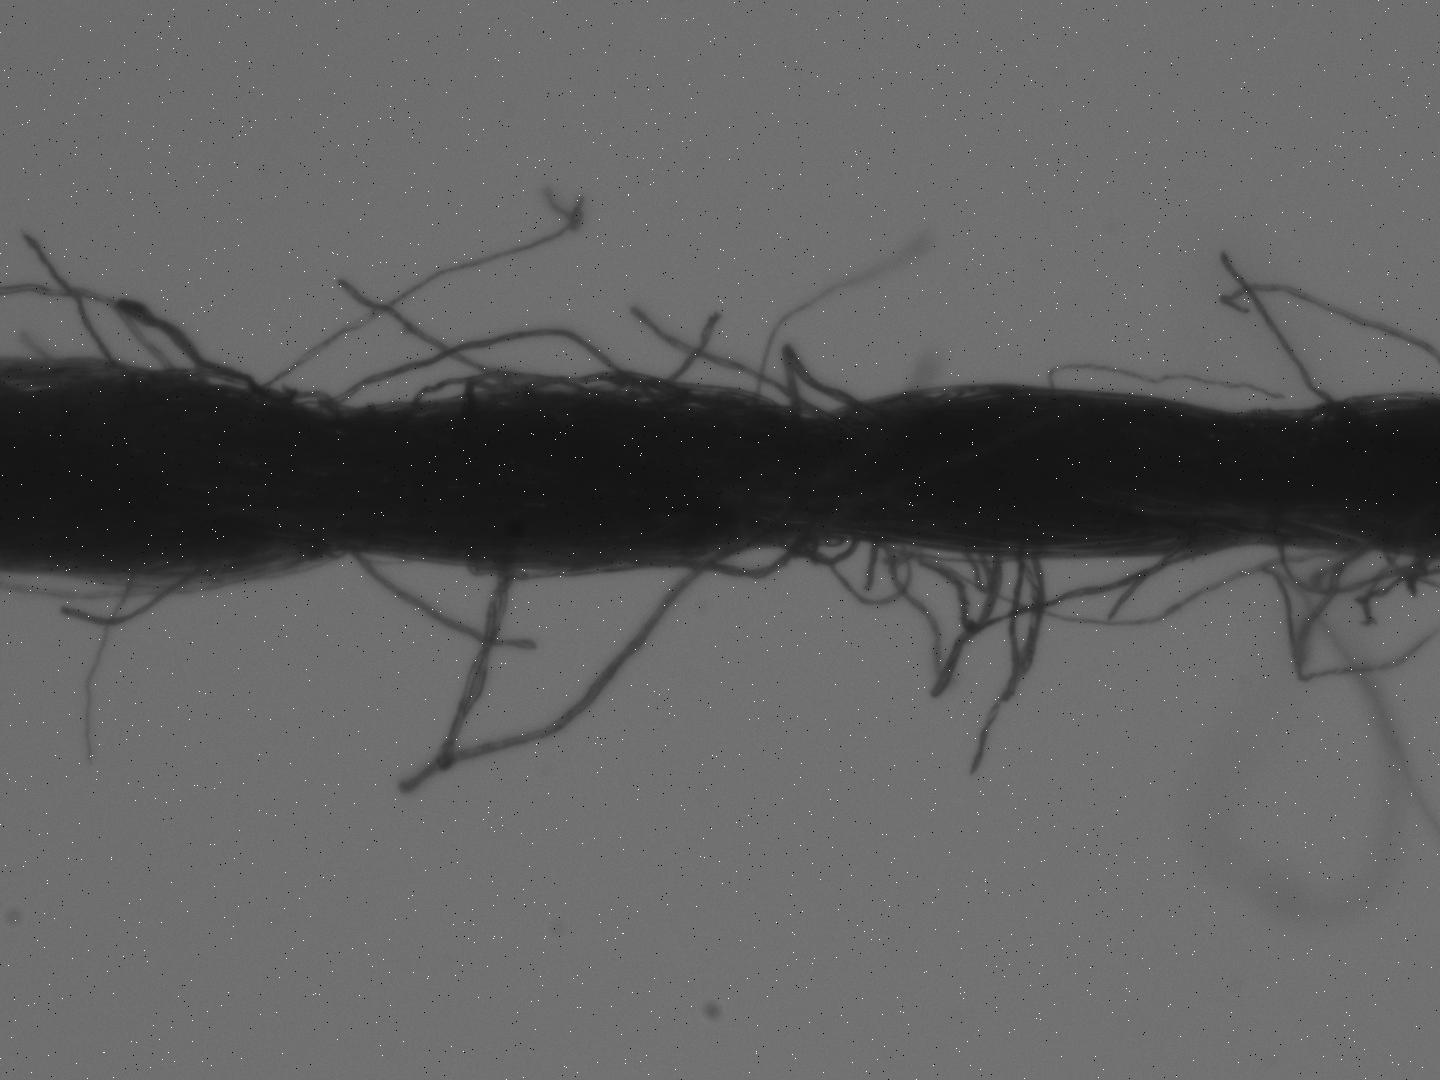loop_fiber: (324, 321, 683, 428), (897, 531, 1255, 635), (879, 520, 1005, 704), (772, 339, 904, 441), (92, 548, 358, 598), (629, 523, 824, 585), (779, 531, 917, 613), (1280, 538, 1431, 600), (147, 356, 296, 405)
protruding_fiber: (1217, 245, 1346, 428)
